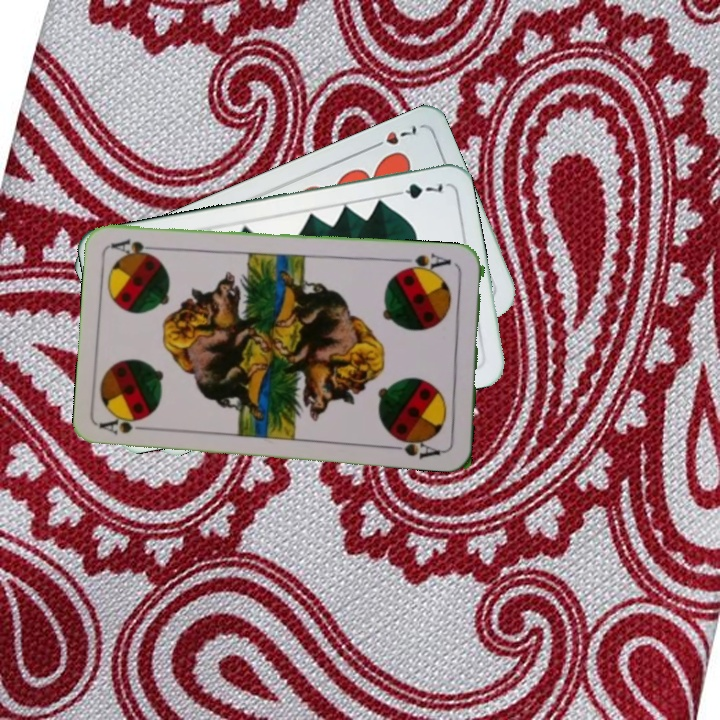G7: (388, 179, 447, 202)
H7: (365, 121, 420, 153)
SA: (398, 249, 453, 276), (97, 414, 156, 438)
